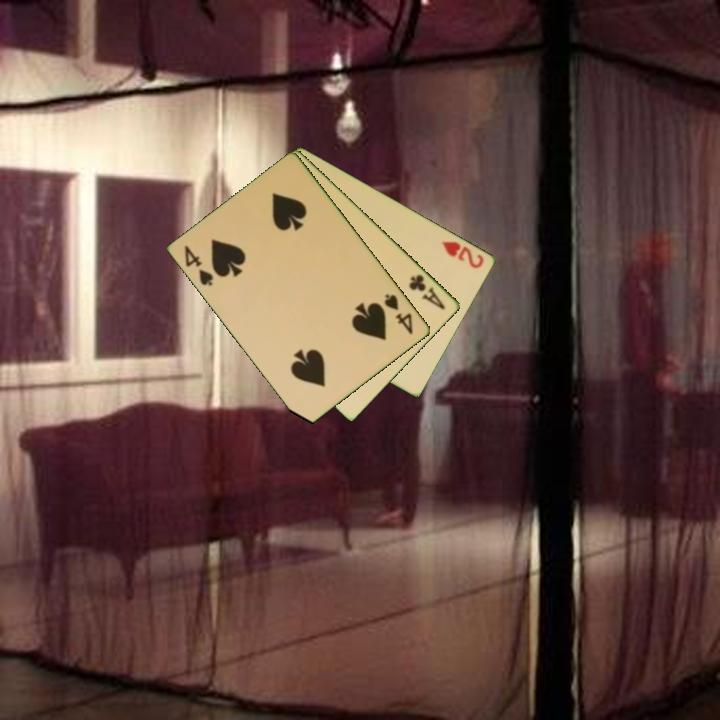2h: (438, 237, 487, 271)
4s: (181, 242, 217, 289), (381, 290, 416, 338)
Ac: (406, 271, 449, 313)
